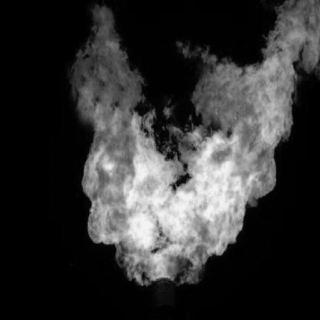Fire: (66, 2, 320, 288)
